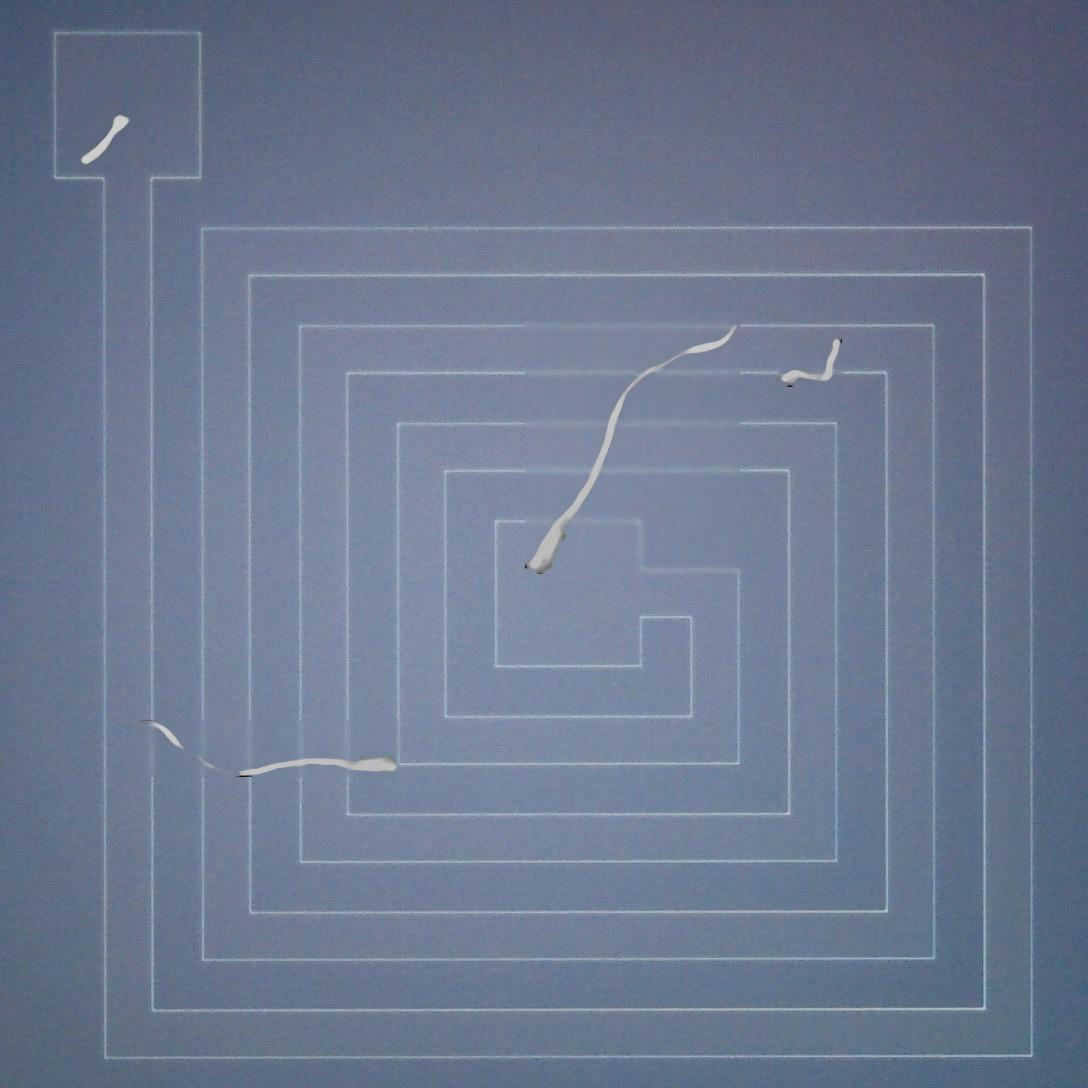foreign: (519, 321, 742, 579), (134, 714, 407, 787), (775, 330, 845, 396), (77, 106, 136, 168)
